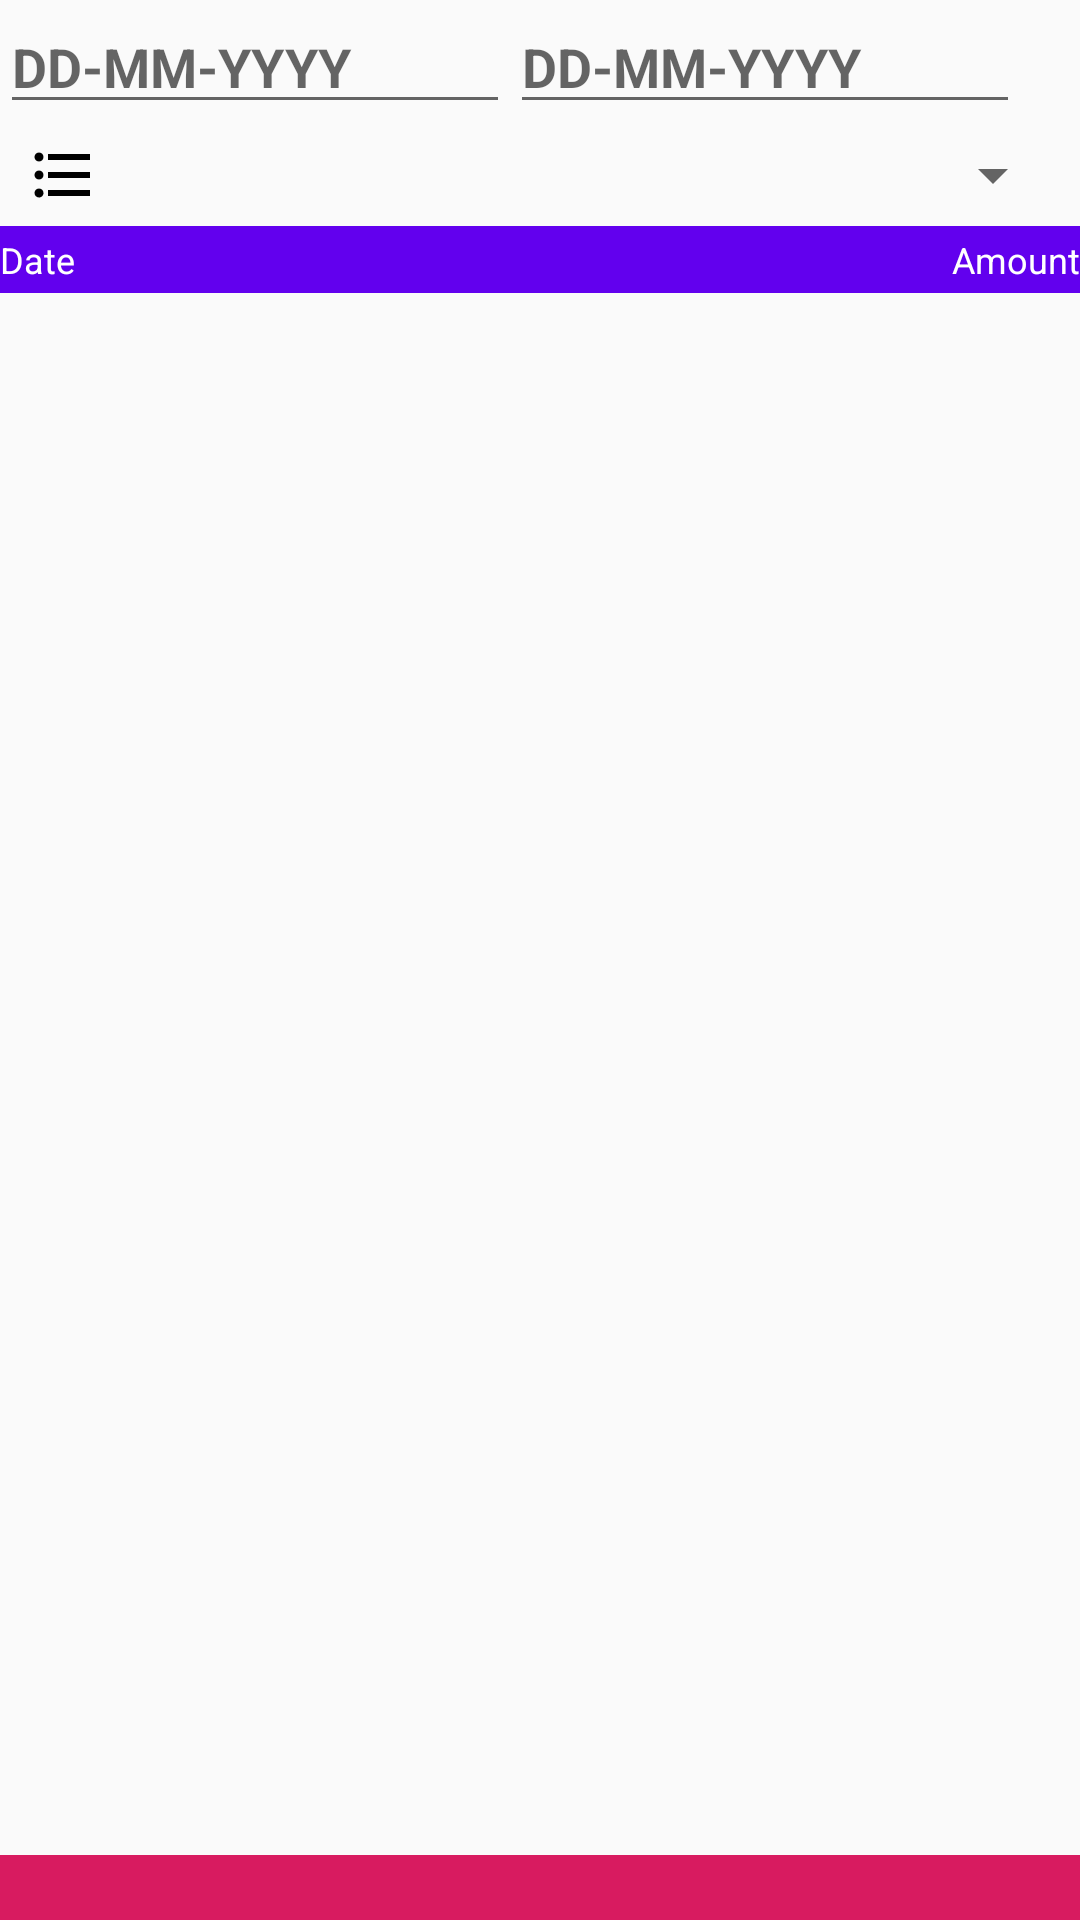

Named icons in this screenshot (1080w x 1920h) and their centers, point (x, y):
format list bulleted: point (62, 175)
